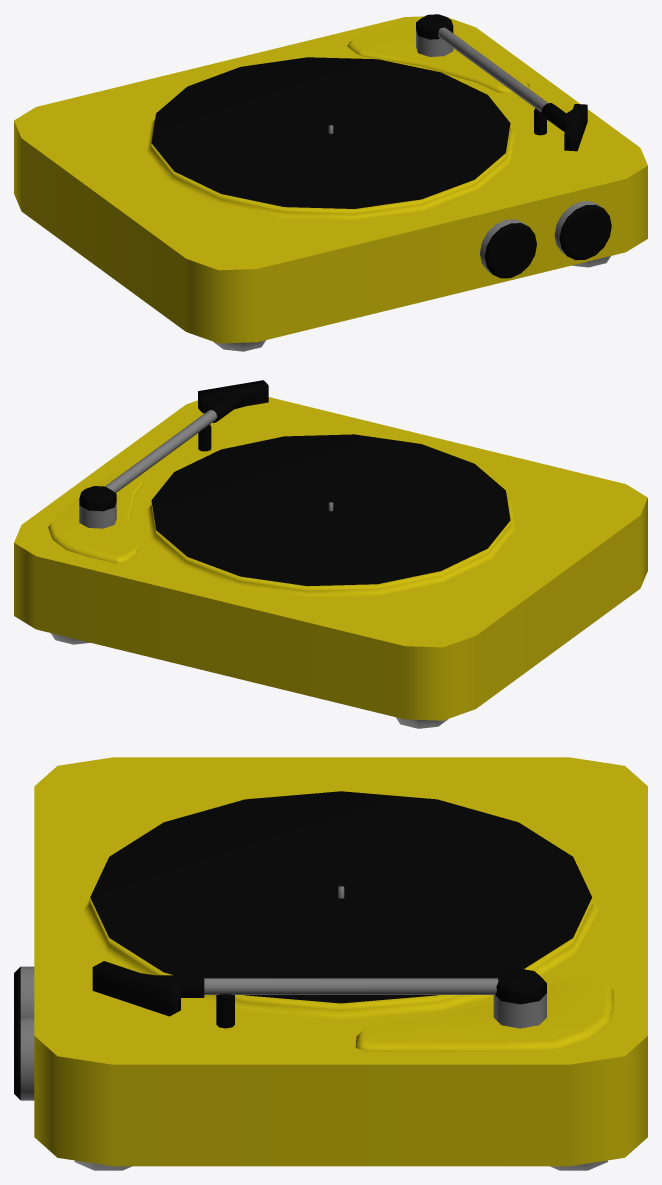
Rendered from recordPlayer (Material).fbx.
3 renders of one model, top to bottom at view 1: azimuth 30°, elevation 25°; view 2: azimuth 150°, elevation 25°; view 3: azimuth 270°, elevation 25°, orthographic. The views are drawn at different scales.
Visible parts, largest first — view 1: RecordPlayer, arm; view 2: RecordPlayer, arm; view 3: RecordPlayer, arm.
Part boxes in pixels (x1=…): RecordPlayer: x1=14, y1=16, x2=647, y2=351; arm: x1=416, y1=14, x2=587, y2=151; RecordPlayer: x1=14, y1=397, x2=647, y2=728; arm: x1=79, y1=380, x2=268, y2=528; RecordPlayer: x1=14, y1=757, x2=647, y2=1170; arm: x1=92, y1=961, x2=546, y2=1028.
Size of the model in its own units: 43.46 by 11.85 by 37.88.
